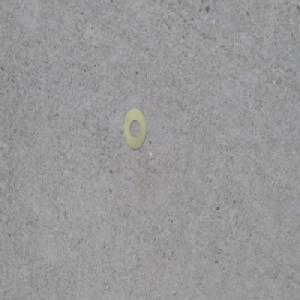Washer: (123, 108, 147, 150)
